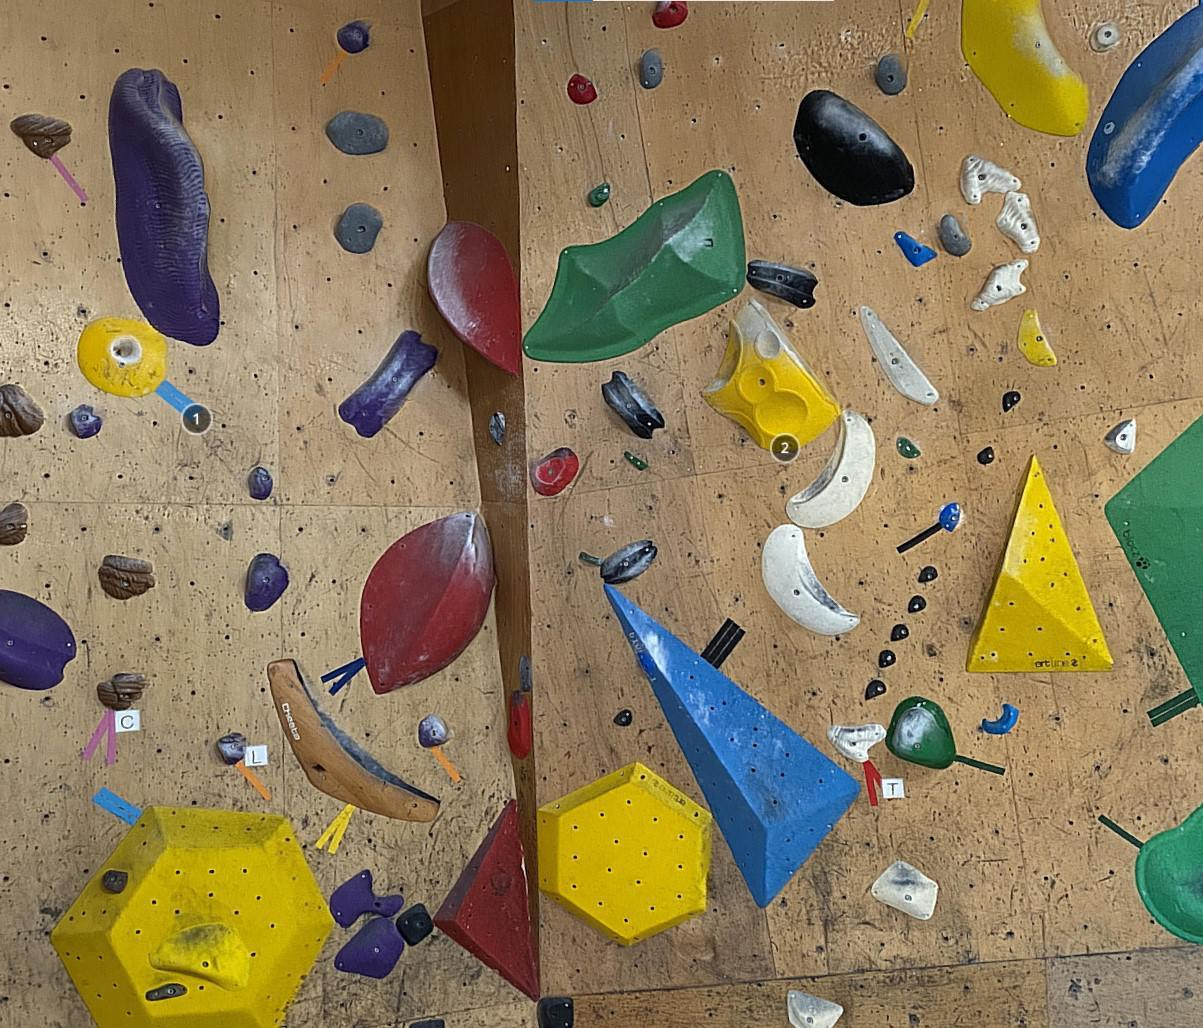hold: (604, 583, 860, 908), (49, 805, 335, 1028), (522, 169, 746, 362), (536, 761, 713, 946), (966, 454, 1114, 673), (109, 68, 219, 346), (1104, 413, 1203, 707), (267, 659, 439, 822), (1086, 0, 1203, 229), (360, 510, 496, 693), (433, 800, 540, 1001), (701, 298, 841, 452), (961, 0, 1088, 137), (427, 220, 521, 376), (793, 90, 914, 206), (763, 523, 859, 634), (786, 410, 876, 527), (338, 330, 437, 436), (1135, 803, 1203, 944), (859, 305, 940, 405), (0, 589, 75, 689), (77, 316, 167, 397), (149, 922, 251, 991), (885, 697, 956, 769), (330, 870, 404, 928), (603, 371, 665, 439), (335, 917, 404, 978), (872, 861, 938, 920), (747, 259, 818, 308), (971, 258, 1030, 311), (959, 155, 1023, 204), (10, 113, 72, 158), (996, 191, 1041, 253), (327, 111, 387, 154), (99, 555, 155, 600), (600, 541, 658, 584), (246, 553, 287, 611), (827, 723, 888, 762), (530, 448, 579, 496), (335, 203, 381, 253), (0, 384, 44, 436), (1018, 308, 1057, 366), (786, 989, 843, 1028), (97, 673, 147, 711), (508, 689, 530, 760), (397, 904, 433, 945), (894, 230, 937, 266), (940, 214, 973, 256), (877, 54, 907, 94), (1104, 418, 1137, 454), (537, 996, 574, 1028), (982, 704, 1019, 734), (0, 504, 28, 545), (70, 404, 102, 439), (651, 1, 688, 29), (217, 732, 248, 765), (418, 714, 449, 747), (640, 47, 664, 89), (337, 21, 368, 53), (568, 73, 597, 104), (1089, 23, 1120, 52), (248, 467, 272, 500), (146, 983, 188, 1000), (940, 502, 960, 531), (102, 870, 127, 893), (489, 411, 506, 445), (896, 435, 921, 458), (588, 183, 610, 206), (518, 656, 532, 690), (624, 451, 647, 470), (865, 679, 886, 700), (579, 552, 605, 566), (1003, 392, 1021, 412), (879, 650, 896, 668), (919, 566, 938, 582), (891, 624, 908, 641), (908, 596, 926, 613), (614, 710, 632, 726), (978, 446, 994, 464), (410, 1020, 444, 1028)
